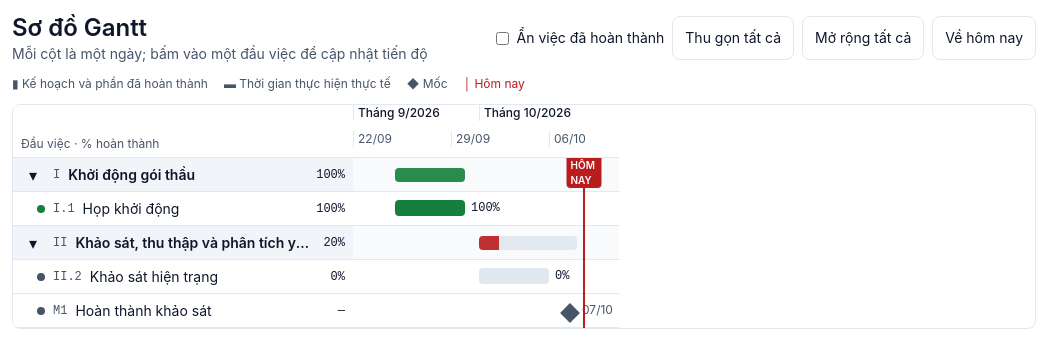
Test: delivery pages › schedule › lists the phases and tasks, collapses a phase and hides finished work
Check: the button "II.2 Khảo sát hiện trạng 0% 0%" is shown, box left=13, top=260, right=619, bottom=294
Check: the button "I.1 Họp khởi động 100% 100%" is shown, box left=13, top=192, right=619, bottom=226
Click the checkbox labelled "Ẩn việc đã hoàn thành" at [502, 38], box left=496, top=32, right=509, bottom=44
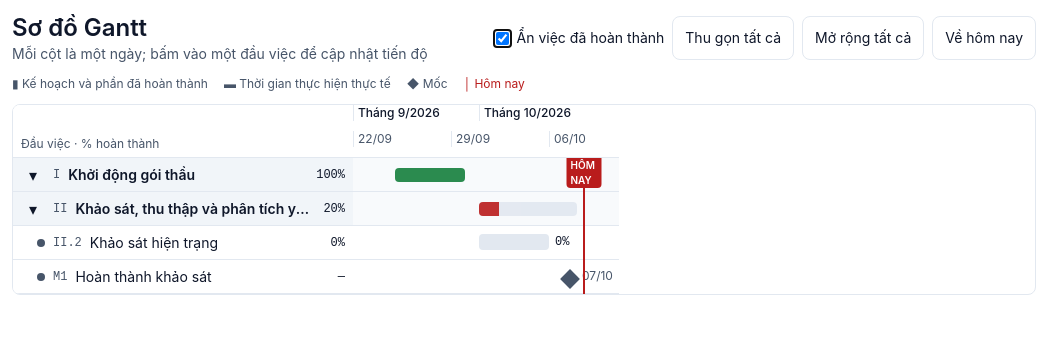
Check: the button "I.1 Họp khởi động" is gone
Click the button named "Thu gọn II" at [33, 208], box left=21, top=196, right=45, bottom=220
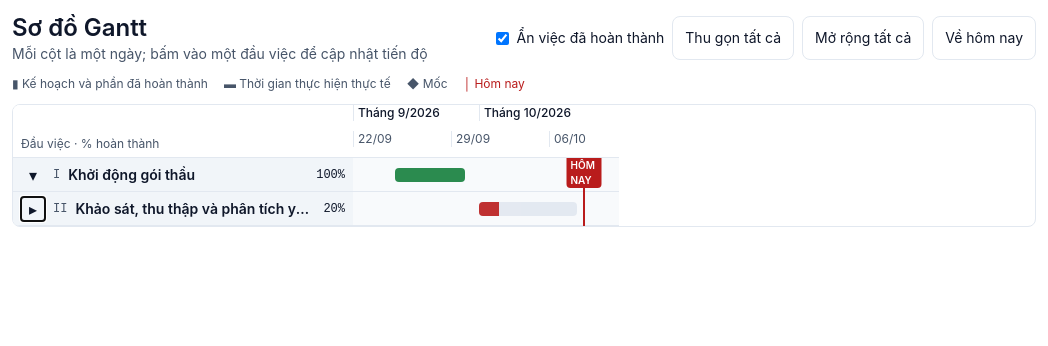
Check: the button "II.2 Khảo sát hiện trạng" is gone
Click the button "Mở rộng tất cả" at [863, 38], box left=802, top=16, right=924, bottom=60
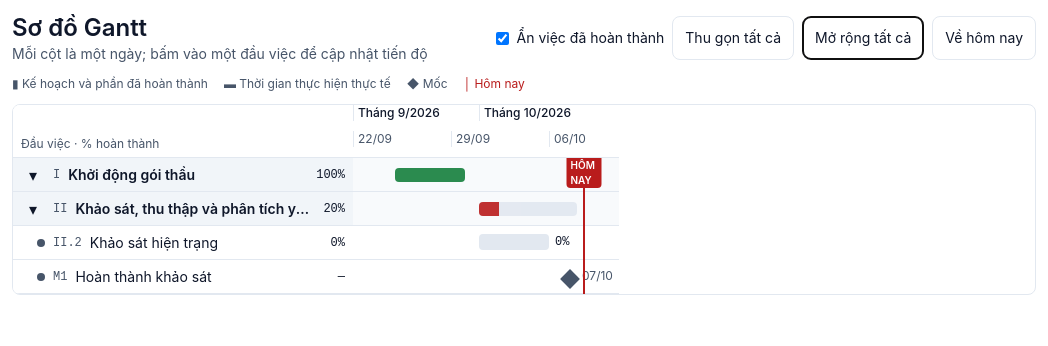
Check: the button "II.2 Khảo sát hiện trạng 0% 0%" is shown, box left=13, top=226, right=619, bottom=260
